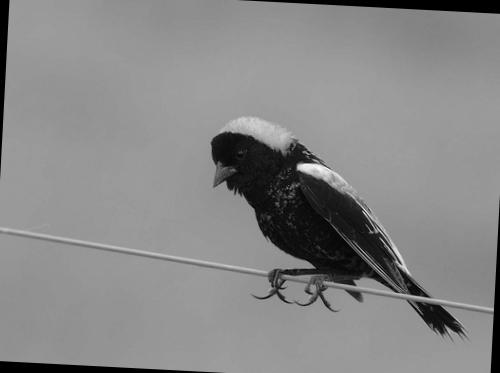bird: (188, 101, 487, 348)
